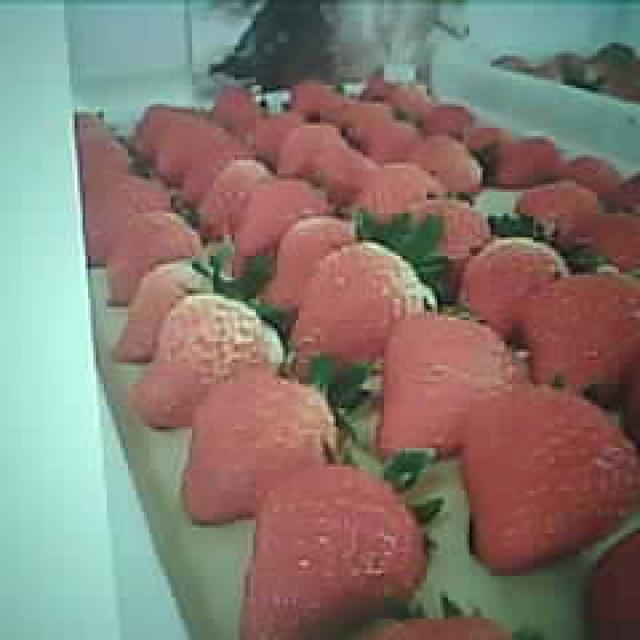strawberry: (467, 382, 640, 576), (235, 466, 428, 638), (183, 380, 333, 528), (377, 309, 514, 455), (291, 244, 438, 380), (134, 294, 266, 428)
